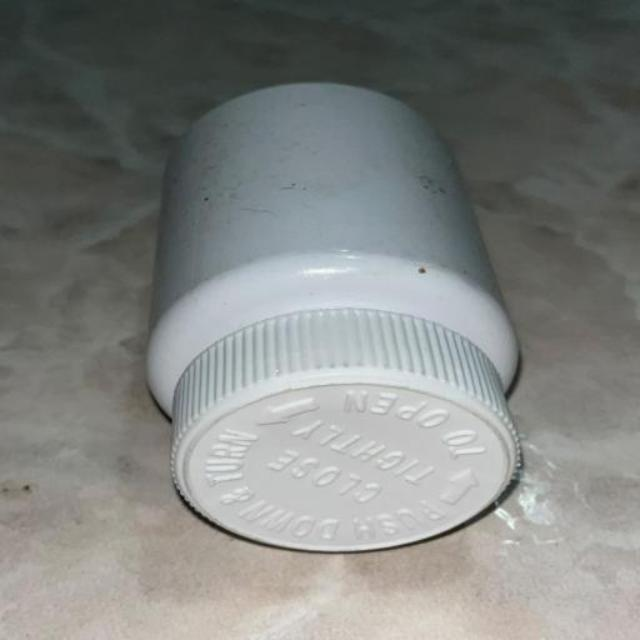HDPE: (50, 11, 630, 622)
